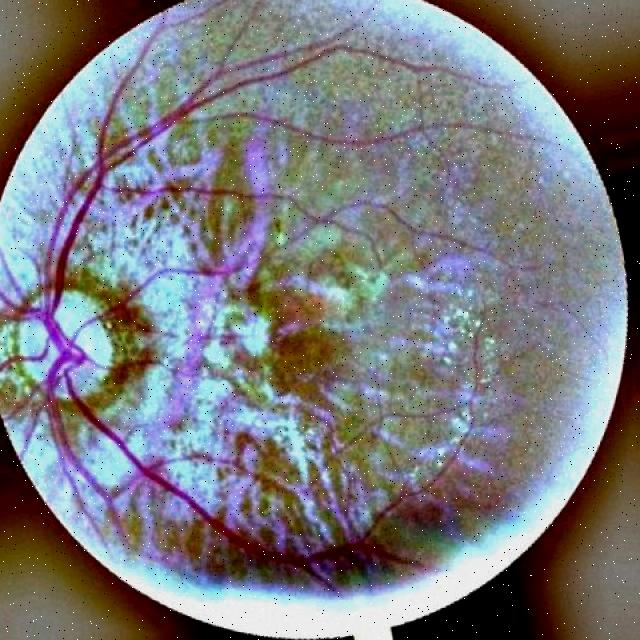Macula: (259, 297, 330, 373)
Nerves: (40, 49, 331, 349), (43, 344, 387, 573)
Optic Disk: (1, 280, 131, 415)
